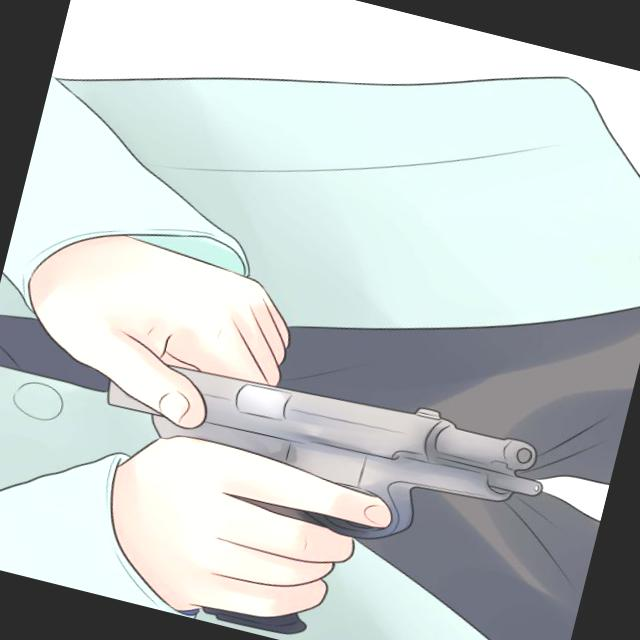handgun: (55, 337, 560, 639)
